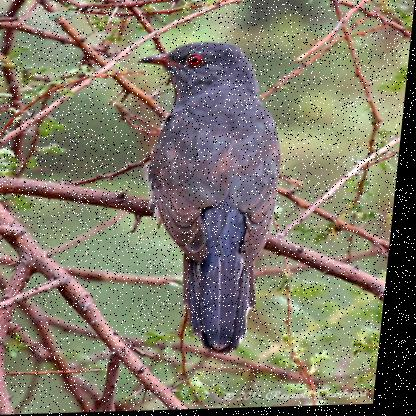Burung: (114, 40, 295, 359)
